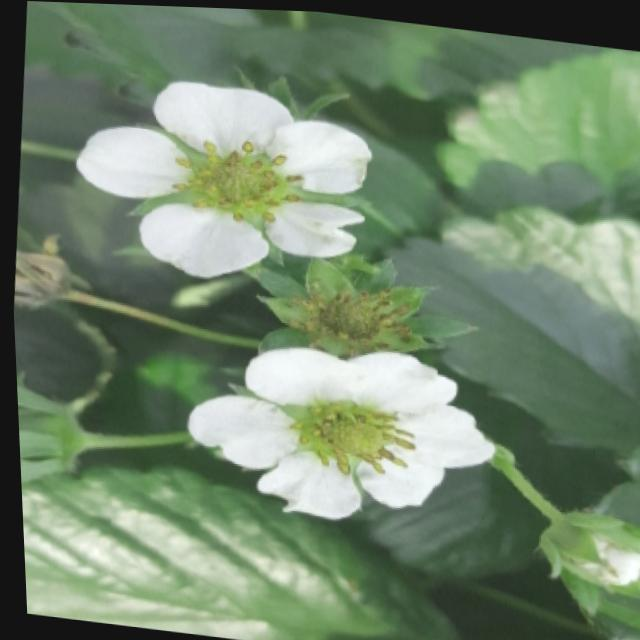Blossom Blight: (157, 133, 304, 227), (284, 388, 414, 477), (310, 278, 412, 350)
